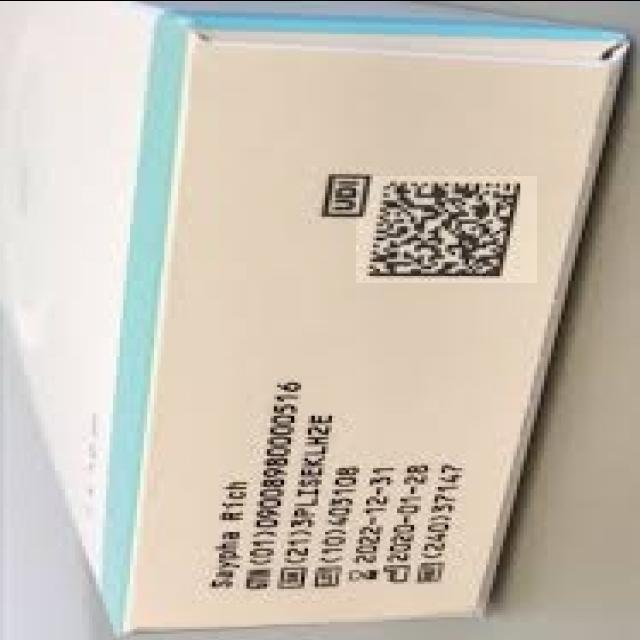Data-Matrix: (356, 175, 537, 282)
